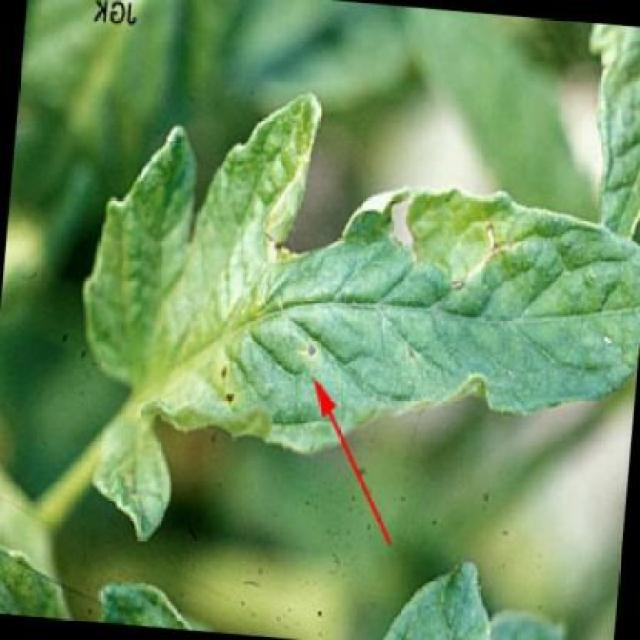Tomato leaf bacterial spot: (67, 72, 640, 490)
